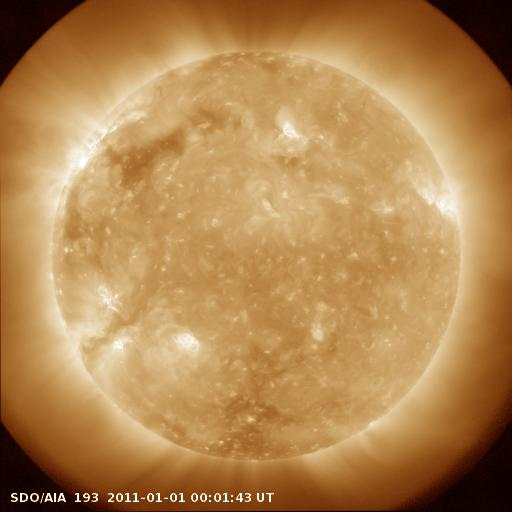coronal_hole: (99, 122, 199, 188)
